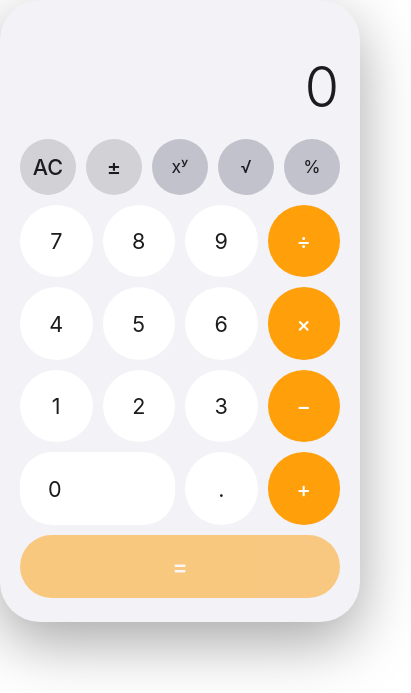
Test: Calculator › chains operations, using the previous result as the next memory value
Click the button "4" at (56, 324), box [20,287,92,360]
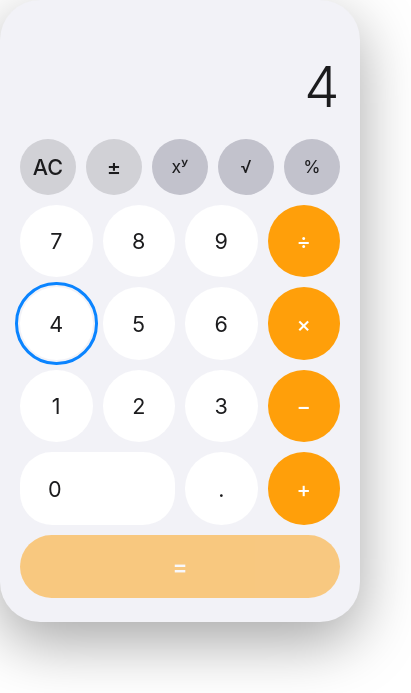
Click the button "+" at (304, 489), box [268,452,340,525]
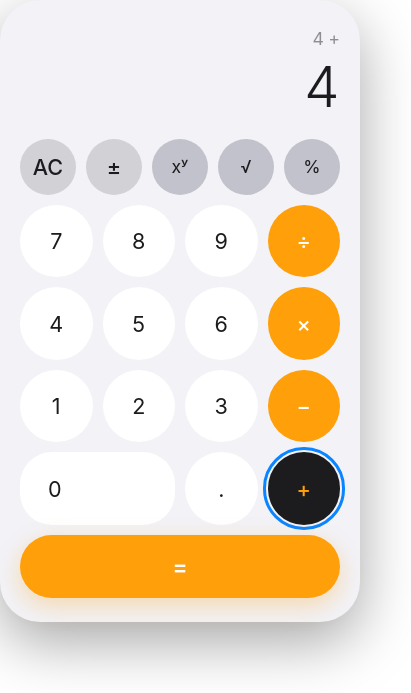
Click the button "5" at (139, 324), box [102,287,175,360]
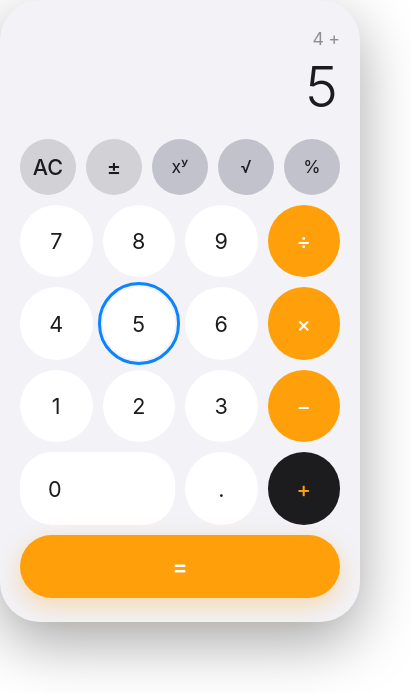
Click the button "×" at (304, 324), box [268,287,340,360]
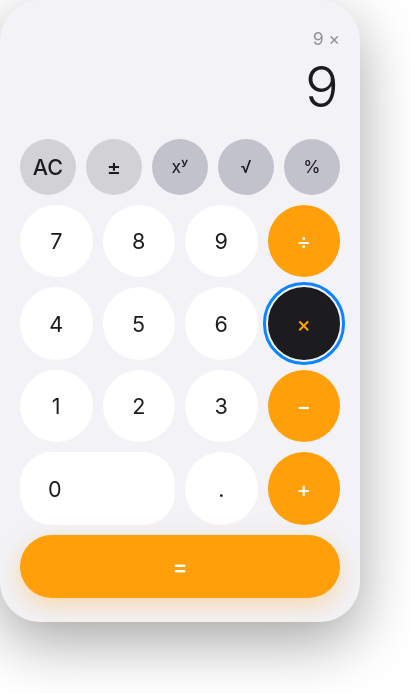
Check: the text with test id "display" reads "9", box [304,53,340,121]
Click the button "2" at (139, 406), box [102,370,175,442]
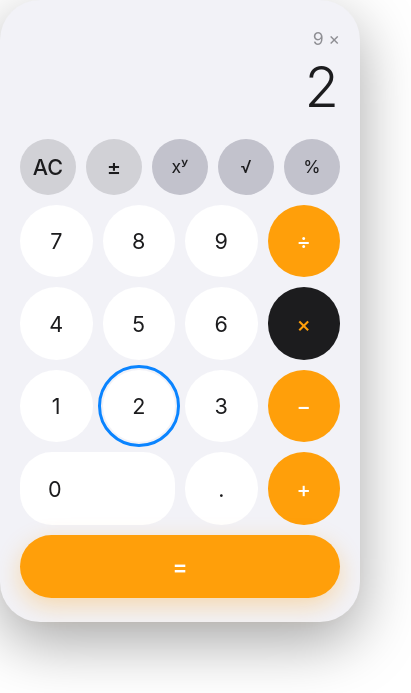
Click the button "=" at (180, 566), box [20,535,340,598]
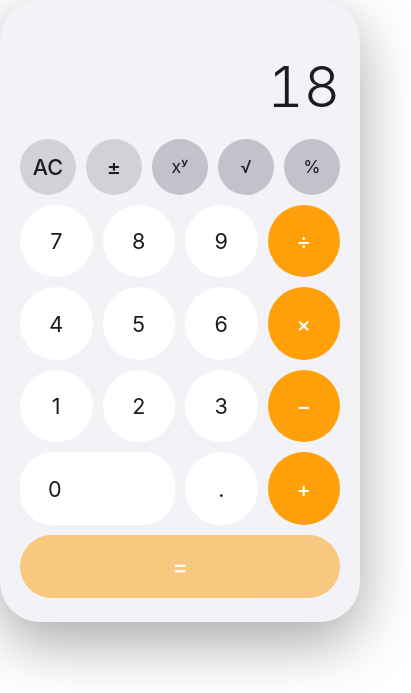
Check: the text with test id "display" reads "18", box [268,53,340,121]
